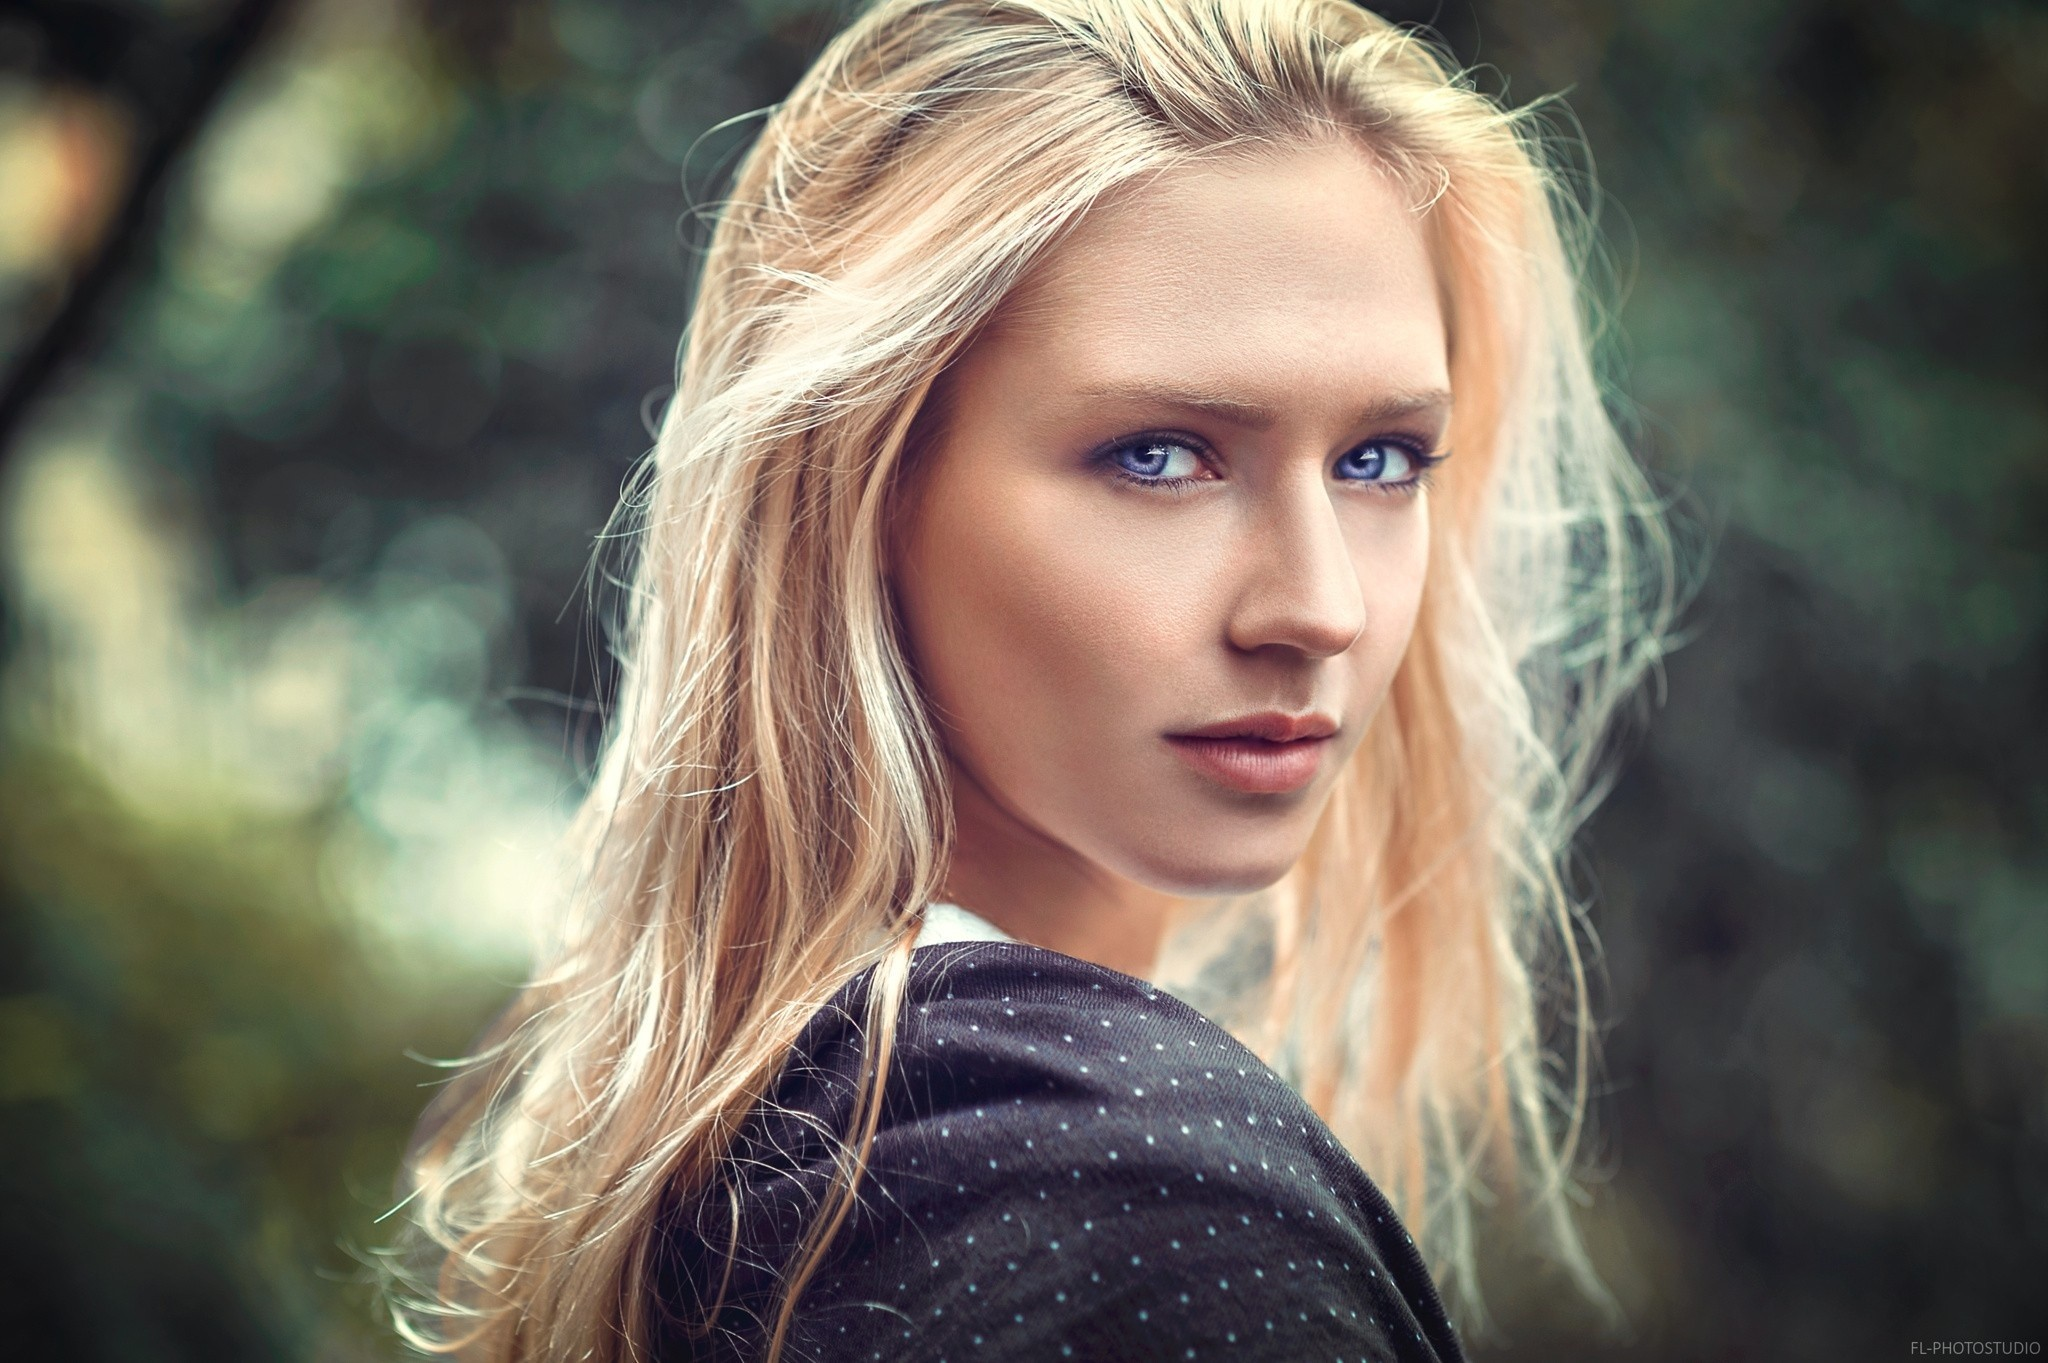face_no_mask: (731, 0, 1547, 947)
